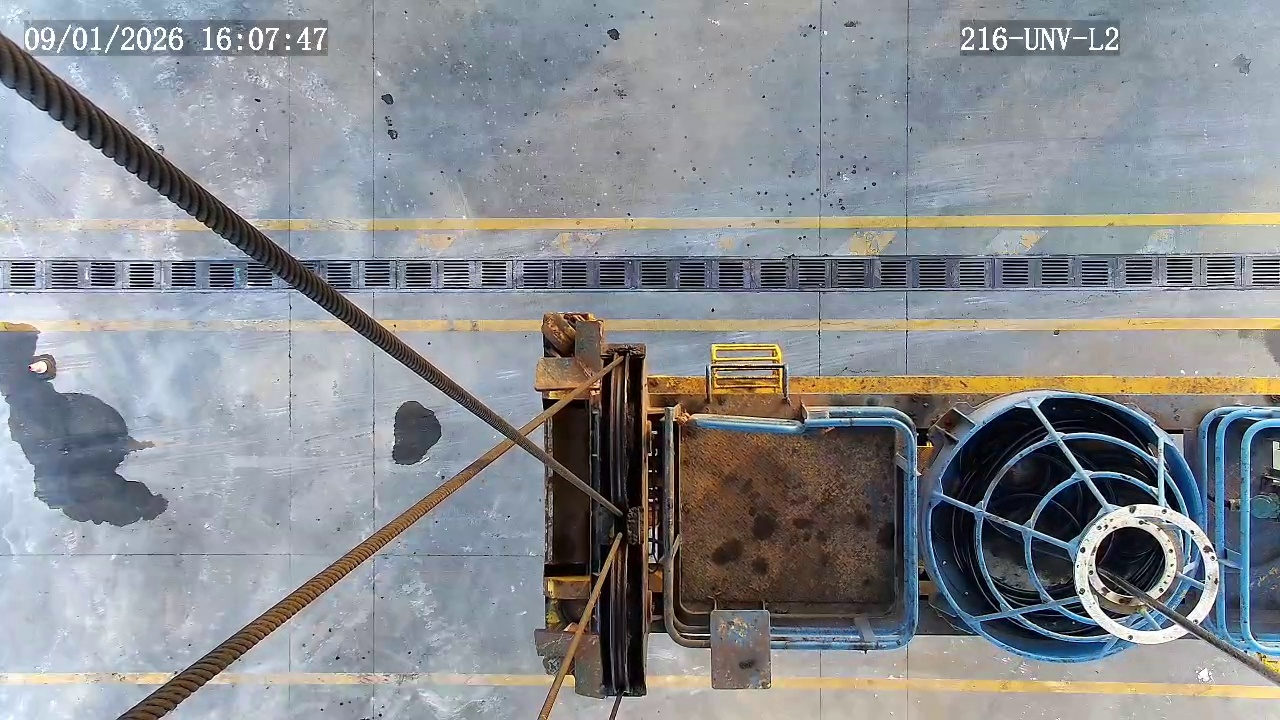left: (927, 393, 1203, 661)
